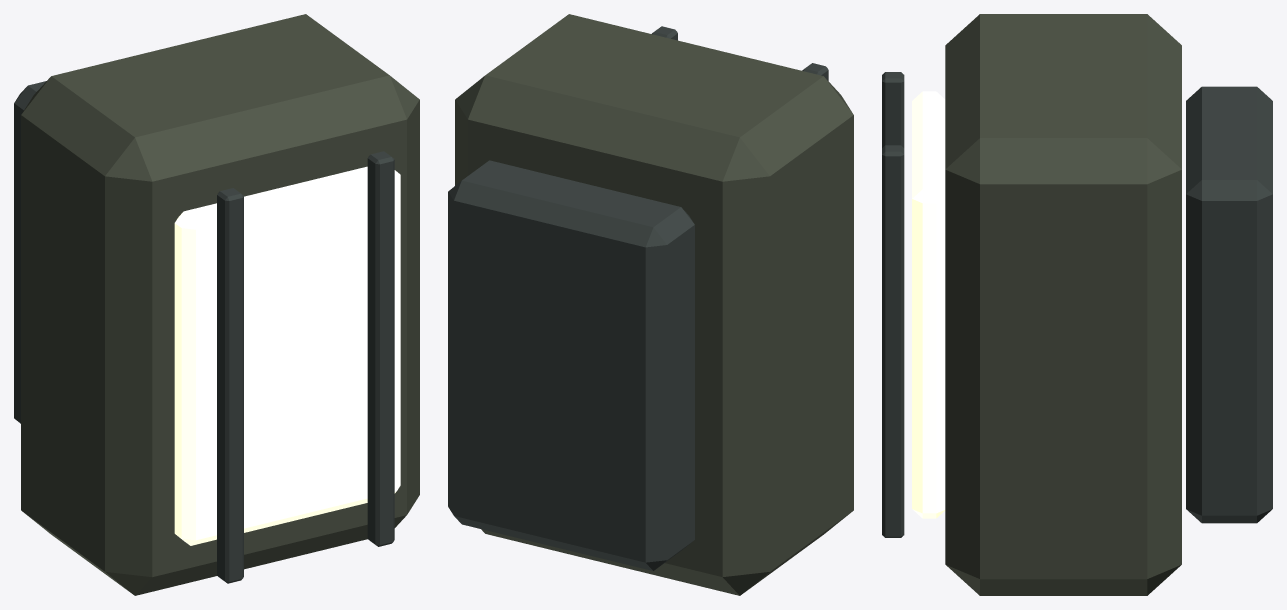
The model's file is WallLamp01.fbx.
3 renders of one model, left to right at view 1: azimuth 30°, elevation 25°; view 2: azimuth 150°, elevation 25°; view 3: azimuth 270°, elevation 25°, orthographic.
Parts seen in each view (by area): view 1: Lamp_Housing, Light_Diffuser, Guard.001, Guard, Bracket; view 2: Lamp_Housing, Bracket; view 3: Lamp_Housing, Bracket, Light_Diffuser, Guard.001, Guard.
Part boxes in pixels (x1,y1,x2,y2): Lamp_Housing: [21, 14, 419, 595]; Light_Diffuser: [174, 166, 400, 545]; Guard.001: [367, 151, 394, 546]; Guard: [217, 188, 243, 583]; Bracket: [14, 81, 46, 423]; Lamp_Housing: [455, 14, 853, 595]; Bracket: [448, 160, 694, 570]; Lamp_Housing: [945, 14, 1181, 595]; Bracket: [1186, 86, 1272, 523]; Light_Diffuser: [912, 91, 945, 518]; Guard.001: [882, 145, 904, 537]; Guard: [882, 72, 904, 147].
Size of the model in its own units: 23 by 32 by 24.75.
